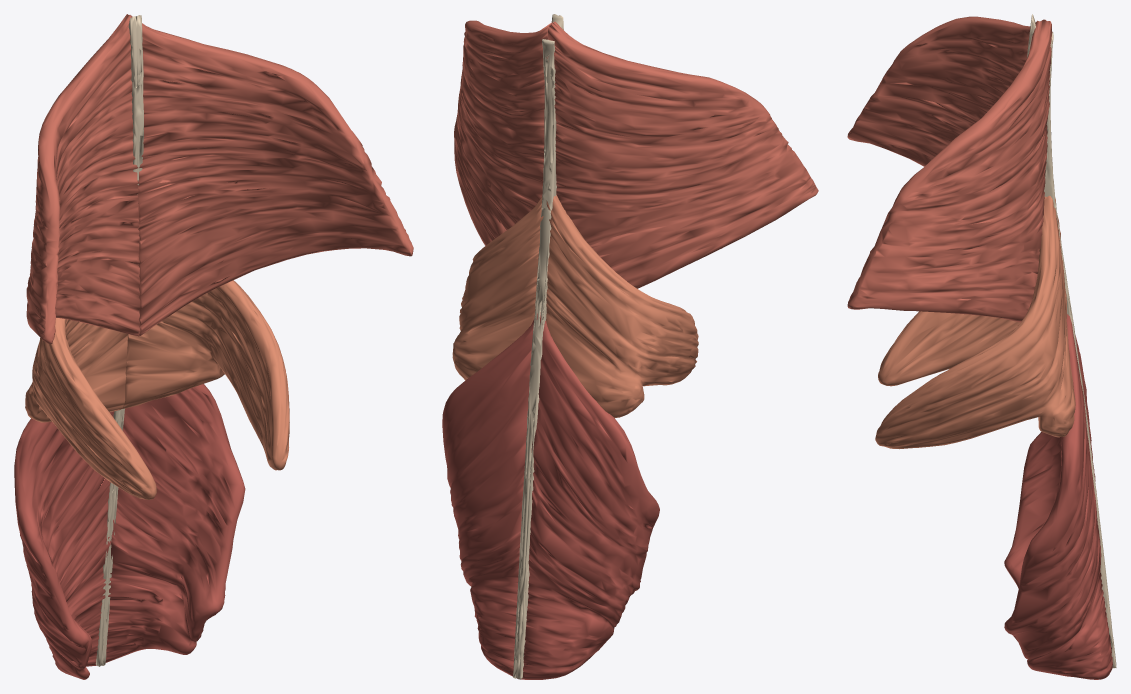
Rendered from pharynx.glb.
3 renders of one model, left to right at view 1: azimuth 30°, elevation 25°; view 2: azimuth 150°, elevation 25°; view 3: azimuth 270°, elevation 25°, orthographic. The views are drawn at different scales.
Parts seen in each view (by area): view 1: superior-constrictor, inferior-constrictor, middle-constrictor, pharyngeal-raphe; view 2: superior-constrictor, inferior-constrictor, middle-constrictor, pharyngeal-raphe; view 3: superior-constrictor, middle-constrictor, inferior-constrictor, pharyngeal-raphe.
Boxes of the visible parts, x1,y1,x2,y2 form: superior-constrictor: (26,14,413,343); inferior-constrictor: (14,384,245,679); middle-constrictor: (25,280,289,499); pharyngeal-raphe: (95,15,143,666); superior-constrictor: (454,20,818,288); inferior-constrictor: (442,312,659,679); middle-constrictor: (452,195,698,417); pharyngeal-raphe: (513,14,563,679); superior-constrictor: (847,16,1052,322); middle-constrictor: (875,195,1075,449); inferior-constrictor: (1004,314,1112,679); pharyngeal-raphe: (1027,14,1116,668).
Size of the model in its own units: 0.1977 by 0.3454 by 0.1287.
